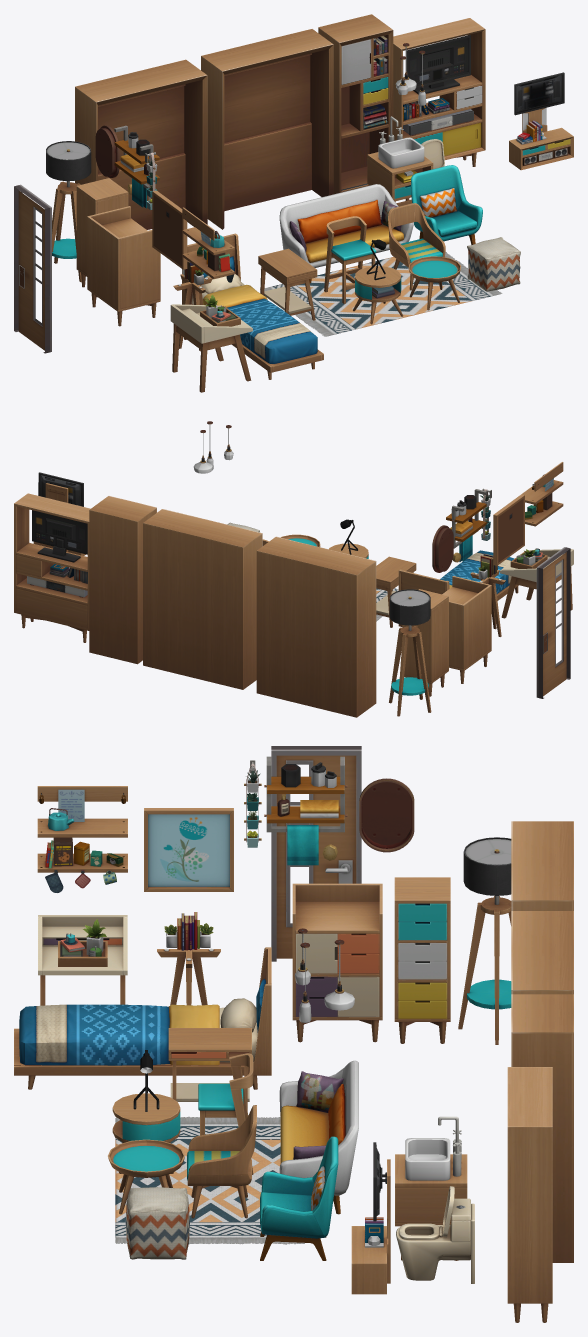
Rendered from Sims4_TinyLivingPack_1_0.fbx.
The picture shows the model from 3 angles, top to bottom: view 1: azimuth 30°, elevation 25°; view 2: azimuth 150°, elevation 25°; view 3: azimuth 270°, elevation 25°; orthographic projection. The views are drawn at different scales.
Parts seen in each view (by area): view 1: TinyLiving_MurphyLoveSeat, TinyLiving_MurphyBed, TinyLiving_MediaMarathoner, TinyLiving_PowerTowerBookcase, TinyLiving_ContemporaryCarpet, TinyLiving_StubbyCubbyDresser, TinyLiving_Space-SavingSingle, TinyLiving_LovelyLoveseat, TinyLiving_JustALittlePeek, TinyLiving_MediaMarathoner_AllontheWall, TinyLiving_LovelyArmchair, TinyLiving_LampWithoutStorage (+18 smaller); view 2: TinyLiving_MurphyBed, TinyLiving_MurphyLoveSeat, TinyLiving_MediaMarathoner, TinyLiving_PowerTowerBookcase, TinyLiving_JustALittlePeek, TinyLiving_StubbyCubbyDresser, TinyLiving_LampWithoutStorage, TinyLiving_PowerTowerDresser, TinyLiving_Space-SavingSingle, TinyLiving_SimpleandCleanArt, TinyLiving_TieredShelf, TinyLiving_OpenShelf (+9 smaller); view 3: TinyLiving_Space-SavingSingle, TinyLiving_StubbyCubbyDresser, TinyLiving_MediaMarathoner, TinyLiving_PowerTowerBookcase, TinyLiving_PowerTowerDresser, TinyLiving_JustALittlePeek, TinyLiving_ContemporaryCarpet, TinyLiving_LovelyLoveseat, TinyLiving_SimpleandCleanArt, TinyLiving_OpenShelf, TinyLiving_TieredShelf, TinyLiving_LampWithoutStorage (+19 smaller).
Boxes of the visible parts, x1=… form: TinyLiving_MurphyLoveSeat: x1=201, y1=29, x2=333, y2=229; TinyLiving_MurphyBed: x1=75, y1=59, x2=207, y2=229; TinyLiving_MediaMarathoner: x1=393, y1=18, x2=485, y2=166; TinyLiving_PowerTowerBookcase: x1=318, y1=14, x2=393, y2=194; TinyLiving_ContemporaryCarpet: x1=260, y1=252, x2=502, y2=336; TinyLiving_StubbyCubbyDresser: x1=87, y1=206, x2=160, y2=326; TinyLiving_Space-SavingSingle: x1=182, y1=233, x2=323, y2=379; TinyLiving_LovelyLoveseat: x1=279, y1=184, x2=413, y2=283; TinyLiving_JustALittlePeek: x1=14, y1=184, x2=51, y2=353; TinyLiving_MediaMarathoner_AllontheWall: x1=509, y1=72, x2=573, y2=170; TinyLiving_LovelyArmchair: x1=411, y1=165, x2=482, y2=244; TinyLiving_LampWithoutStorage: x1=46, y1=141, x2=91, y2=281; TinyLiving_MurphyBed: x1=256, y1=536, x2=376, y2=717; TinyLiving_MurphyLoveSeat: x1=143, y1=509, x2=262, y2=689; TinyLiving_MediaMarathoner: x1=14, y1=493, x2=90, y2=642; TinyLiving_PowerTowerBookcase: x1=89, y1=496, x2=156, y2=664; TinyLiving_JustALittlePeek: x1=536, y1=547, x2=570, y2=698; TinyLiving_StubbyCubbyDresser: x1=442, y1=576, x2=491, y2=683; TinyLiving_LampWithoutStorage: x1=389, y1=589, x2=431, y2=716; TinyLiving_PowerTowerDresser: x1=402, y1=589, x2=448, y2=696; TinyLiving_Space-SavingSingle: x1=398, y1=550, x2=518, y2=626; TinyLiving_SimpleandCleanArt: x1=493, y1=494, x2=524, y2=565; TinyLiving_TieredShelf: x1=446, y1=489, x2=486, y2=562; TinyLiving_OpenShelf: x1=521, y1=462, x2=563, y2=526; TinyLiving_Space-SavingSingle: x1=14, y1=947, x2=271, y2=1089; TinyLiving_StubbyCubbyDresser: x1=292, y1=883, x2=382, y2=1042; TinyLiving_MediaMarathoner: x1=507, y1=1067, x2=552, y2=1322; TinyLiving_PowerTowerBookcase: x1=511, y1=994, x2=573, y2=1262; TinyLiving_PowerTowerDresser: x1=394, y1=877, x2=450, y2=1043; TinyLiving_JustALittlePeek: x1=271, y1=746, x2=361, y2=961; TinyLiving_ContemporaryCarpet: x1=115, y1=1116, x2=304, y2=1244; TinyLiving_LovelyLoveseat: x1=279, y1=1060, x2=358, y2=1214; TinyLiving_SimpleandCleanArt: x1=144, y1=808, x2=233, y2=891; TinyLiving_OpenShelf: x1=37, y1=786, x2=127, y2=892; TinyLiving_TieredShelf: x1=264, y1=756, x2=347, y2=865; TinyLiving_LampWithoutStorage: x1=458, y1=837, x2=511, y2=1044.
Size of the model in its own units: 882 by 300 by 527.
